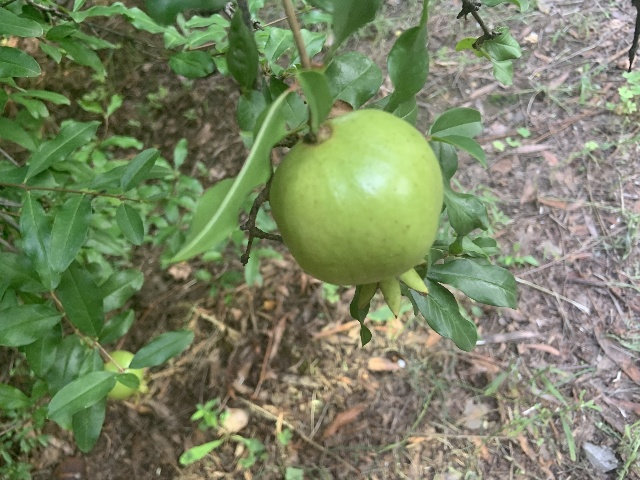mid-growth: (270, 109, 444, 318), (103, 349, 153, 406)
